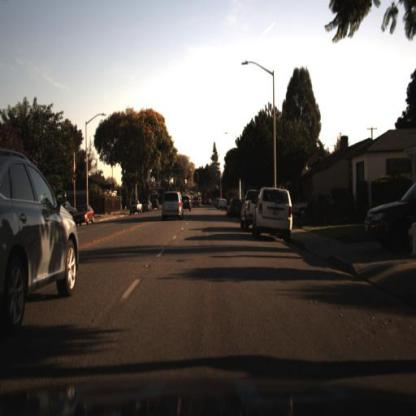car: (1, 148, 82, 334), (366, 179, 416, 258), (250, 184, 297, 244), (239, 189, 260, 232), (160, 192, 184, 224), (73, 203, 97, 229), (75, 203, 97, 224), (227, 194, 241, 219), (177, 195, 191, 216), (128, 200, 144, 216), (150, 196, 162, 215), (131, 199, 143, 217), (142, 196, 154, 212), (204, 199, 213, 208)
